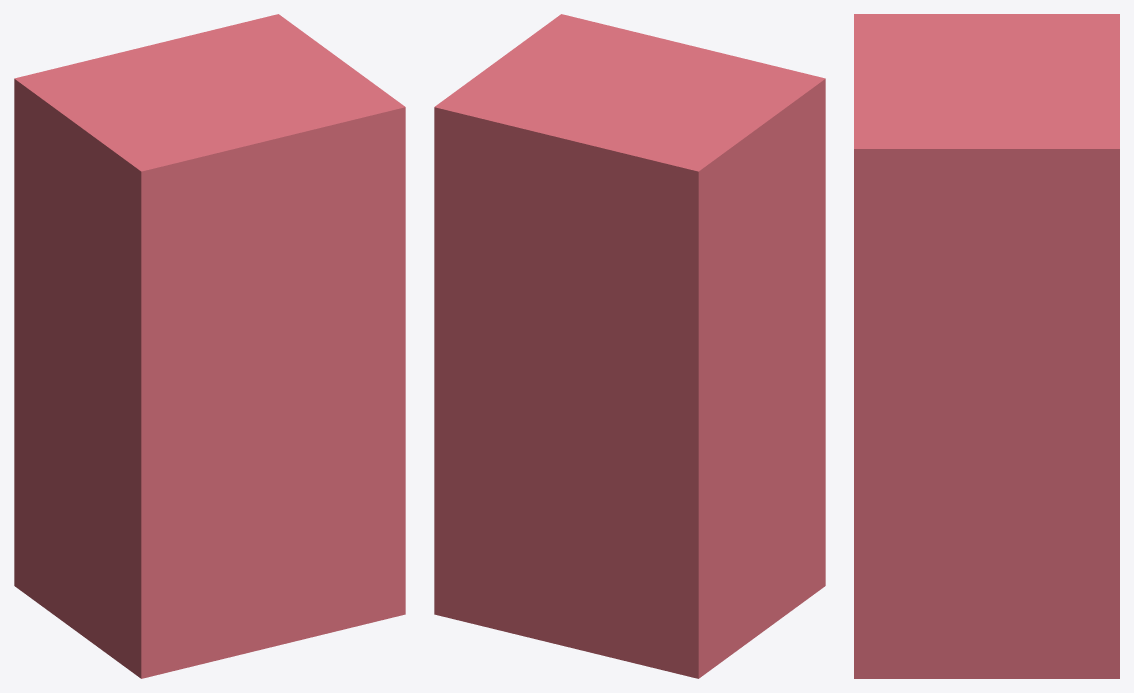
File: mdl-6030ca86muq4w2jl.glb
3 renders of one model, left to right at view 1: azimuth 30°, elevation 25°; view 2: azimuth 150°, elevation 25°; view 3: azimuth 270°, elevation 25°, orthographic. The views are drawn at different scales.
Parts seen in each view (by area): view 1: caja; view 2: caja; view 3: caja.
Part boxes in pixels (bbox=[...]): caja: bbox=[14, 14, 405, 678]; caja: bbox=[434, 14, 825, 678]; caja: bbox=[854, 14, 1119, 678].
Bounding box in the file's own units: 1.2 × 2.2 × 1.
